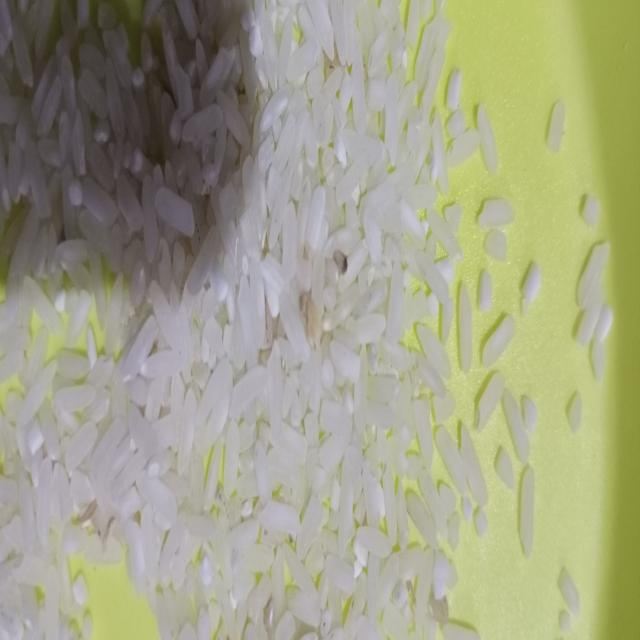Kerikil: (338, 246, 351, 284)
